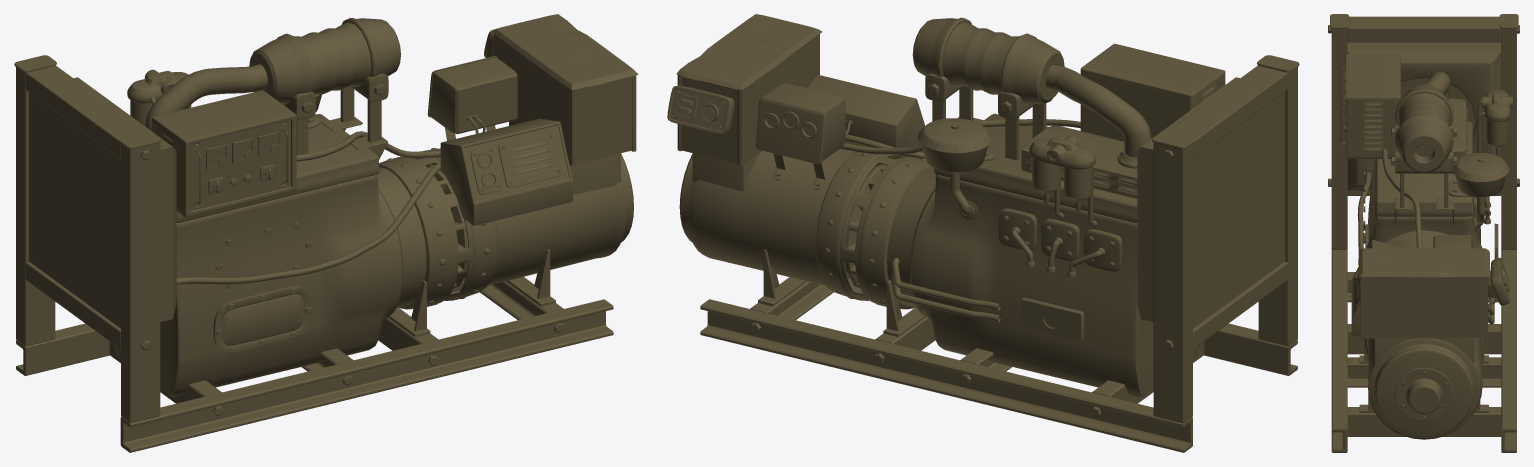
The model's file is geradorEN.glb.
The picture shows the model from 3 angles, left to right: view 1: azimuth 30°, elevation 25°; view 2: azimuth 150°, elevation 25°; view 3: azimuth 270°, elevation 25°; orthographic projection. The views are drawn at different scales.
Parts seen in each view (by area): view 1: node_id6, node_id10; view 2: node_id6, node_id10; view 3: node_id6.
Part boxes in pixels (x1,y1,x2,y2): node_id6: (14,14,638,452); node_id10: (426,164,468,288); node_id6: (667,14,1299,452); node_id10: (845,164,887,288); node_id6: (1328,14,1519,452).
Size of the model in its own units: 0.5464 by 0.3055 by 0.2043.
Materials: 2 (2 with a texture image).
